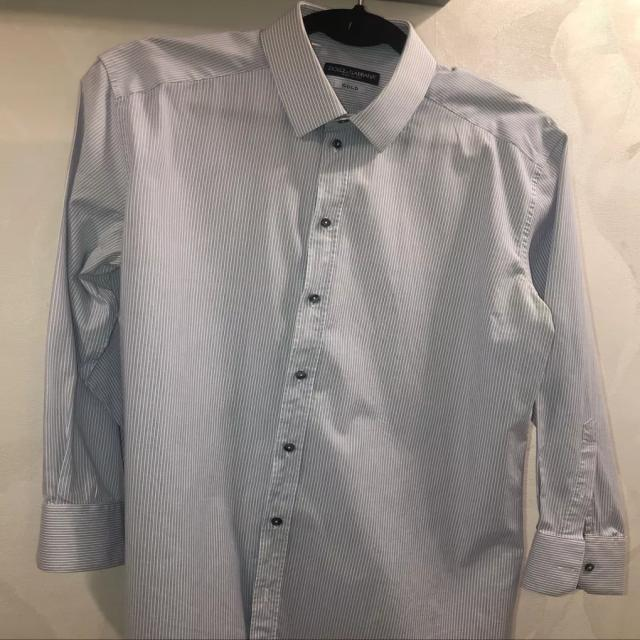long sleeve shirt: (32, 0, 628, 640)
